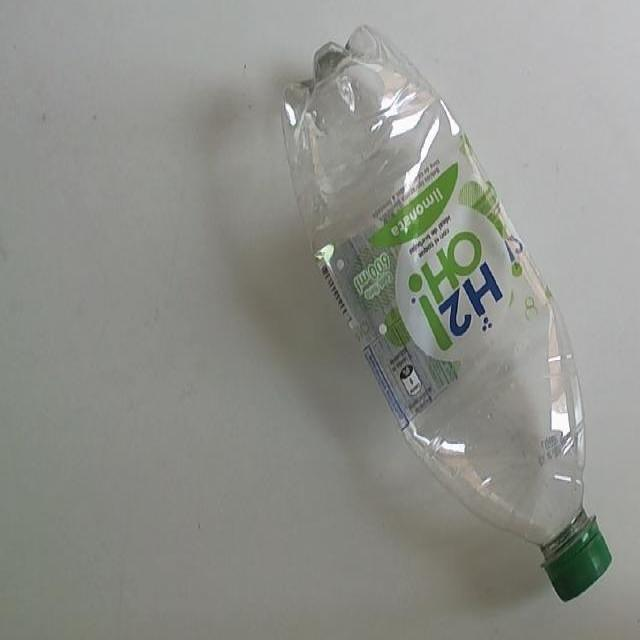defect: (275, 24, 615, 608)
